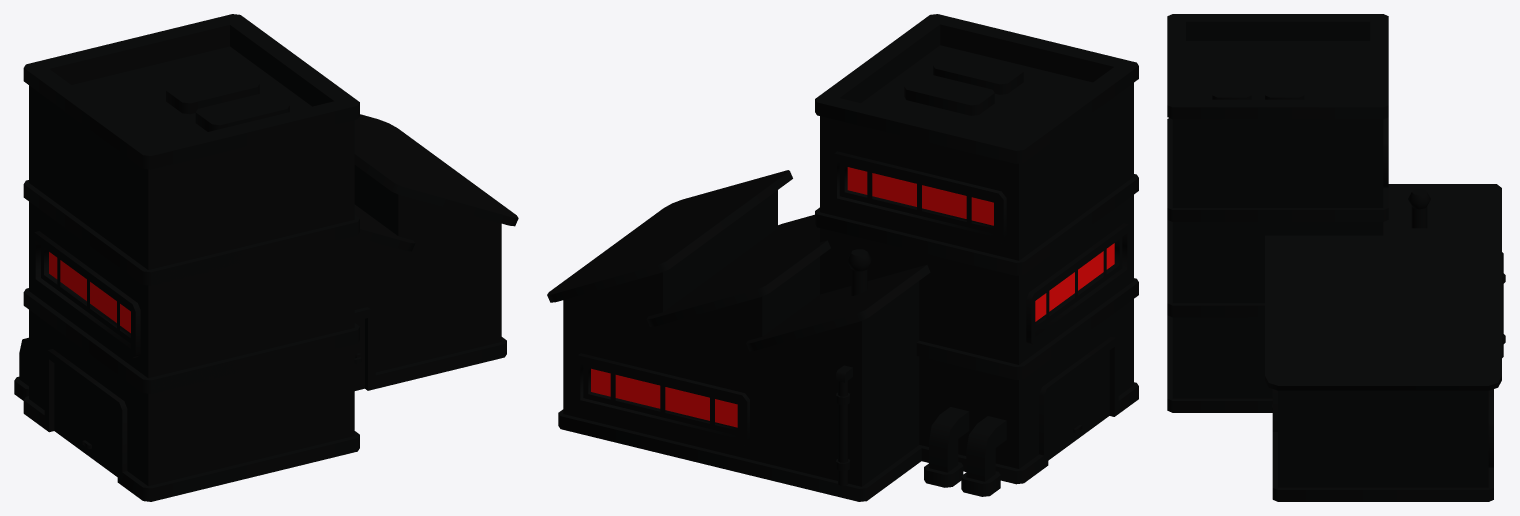
File: building-g.glb
3 views of the same model, side by side, from view 1: azimuth 30°, elevation 25°; view 2: azimuth 150°, elevation 25°; view 3: azimuth 270°, elevation 25° (orthographic). The views are drawn at different scales.
Parts seen in each view (by area): view 1: building-g; view 2: building-g; view 3: building-g.
Part boxes in pixels (box(x1,y1,x2,y2)): building-g: box(14, 14, 518, 501); building-g: box(547, 14, 1138, 501); building-g: box(1167, 14, 1505, 501).
Bounding box in the file's own units: 1.68 × 1.28 × 1.28.
Materials: 1 (1 with a texture image).
